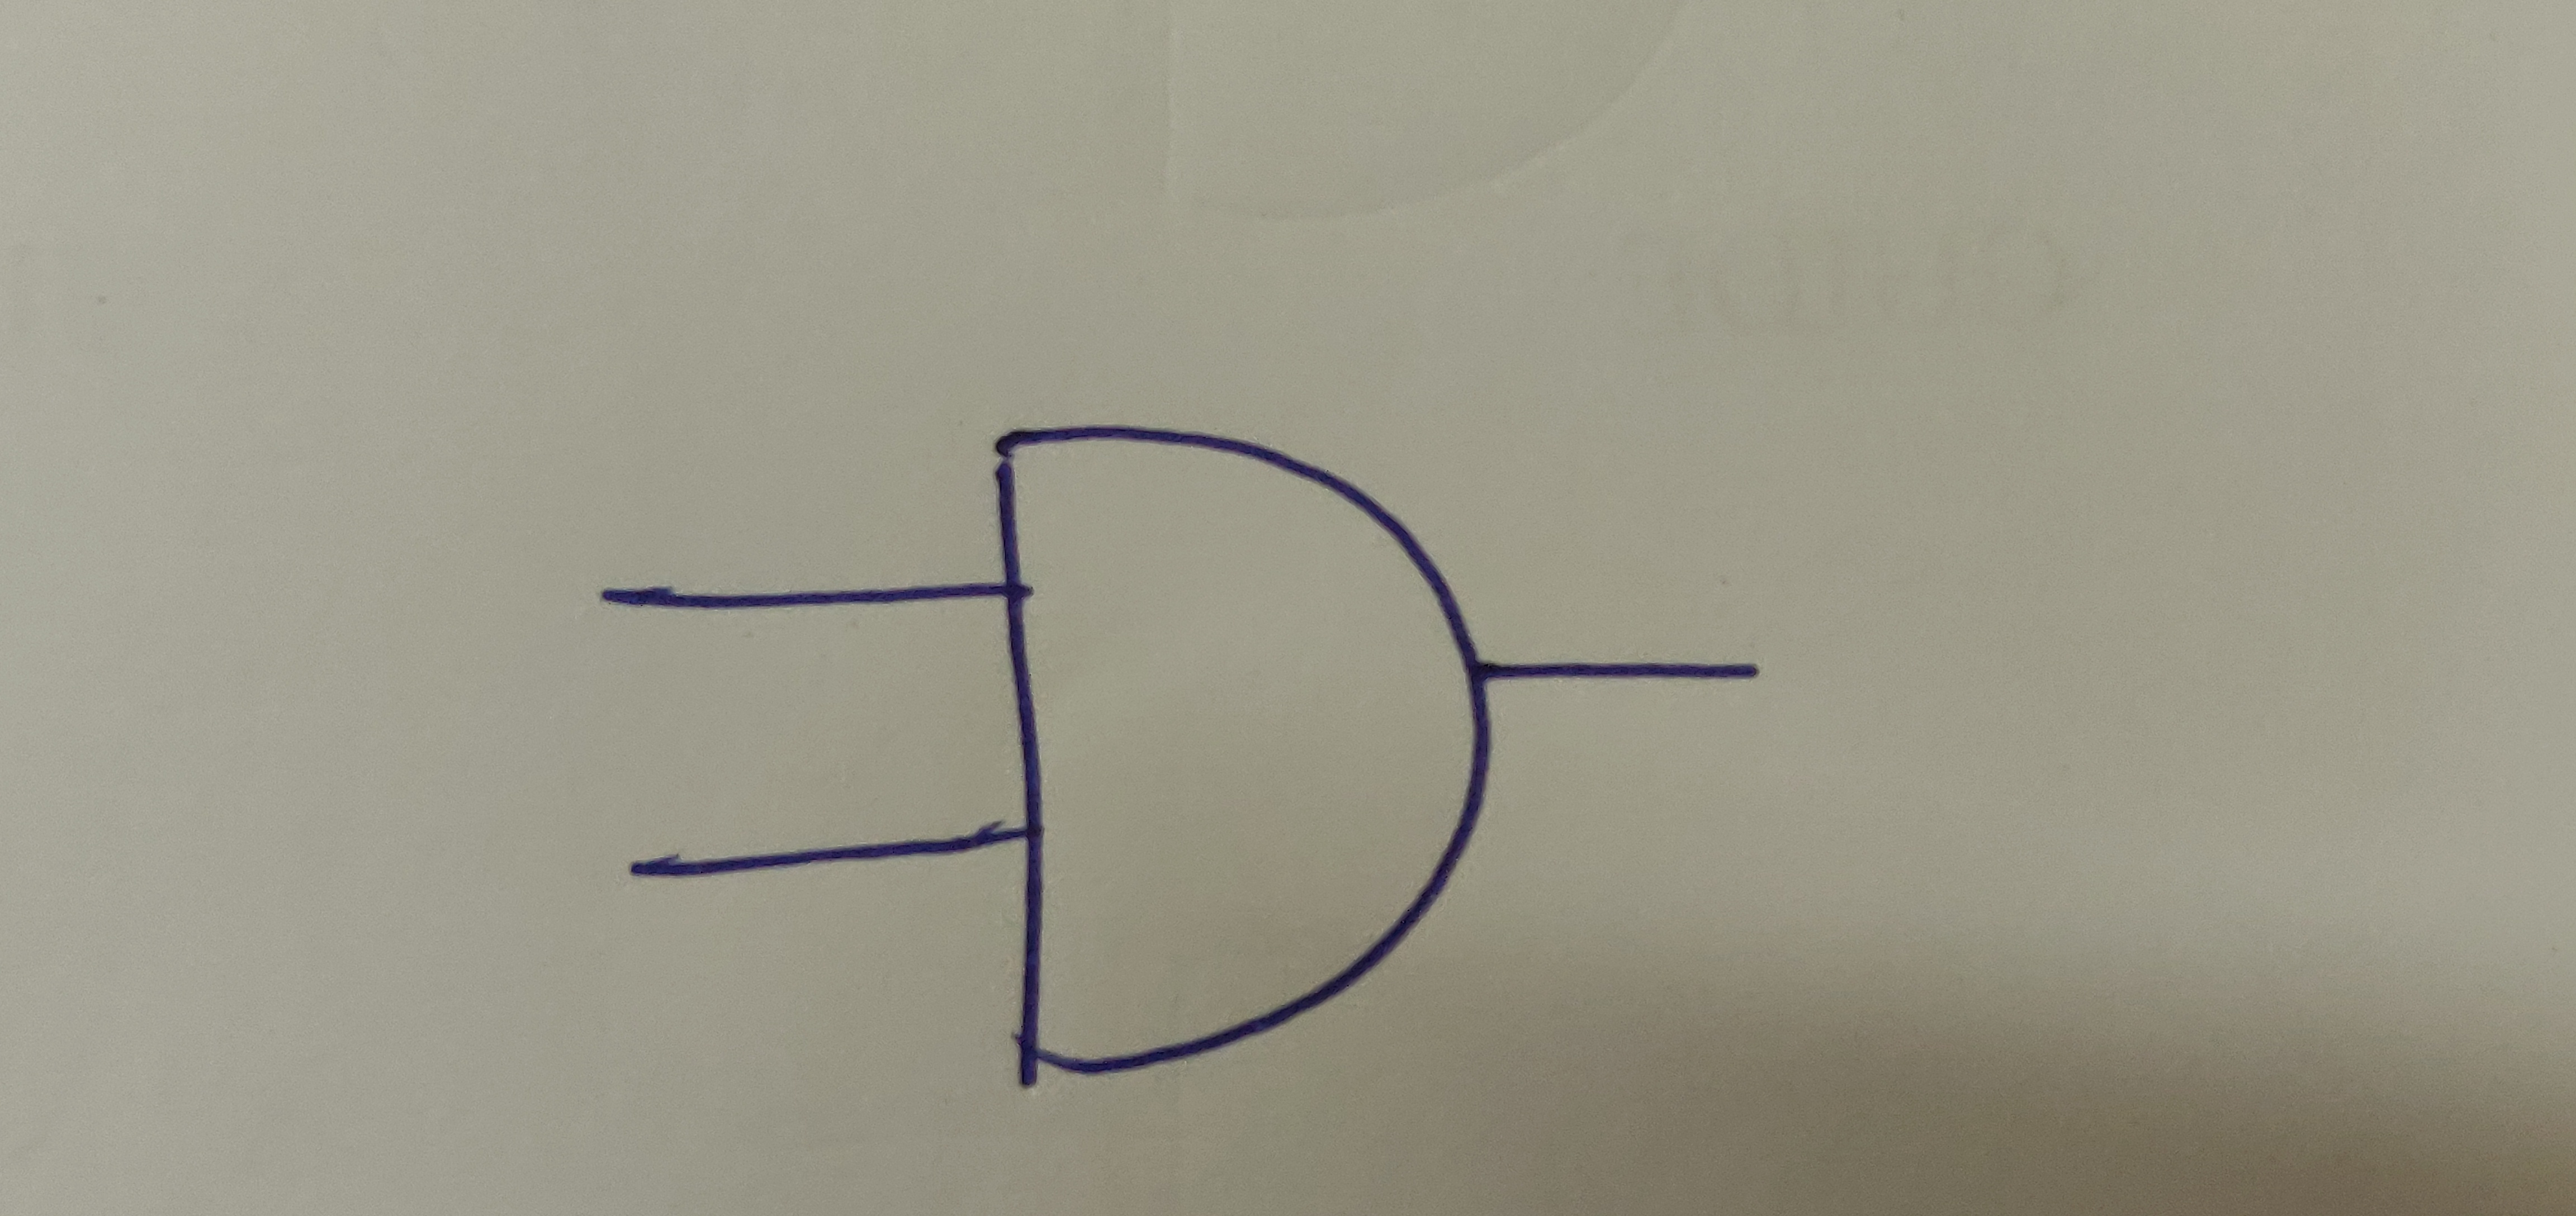and: (984, 422, 1495, 1060)
